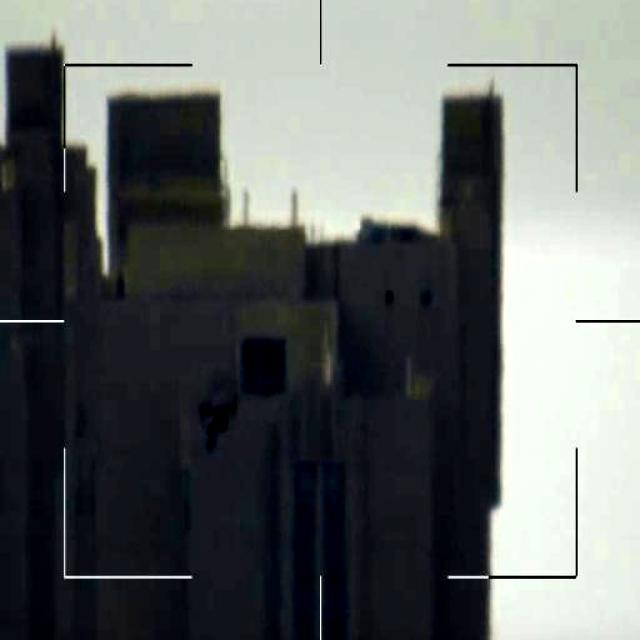bird: (194, 390, 246, 460)
